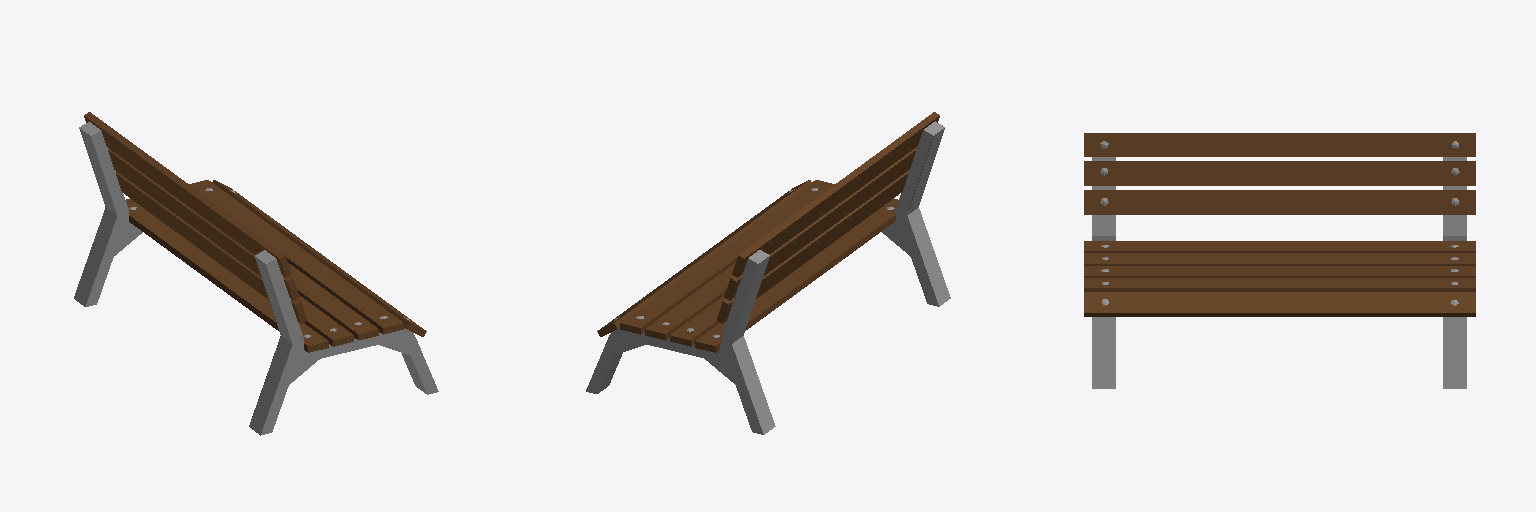
The picture shows the model from 3 angles: view 1: azimuth 30°, elevation 25°; view 2: azimuth 150°, elevation 25°; view 3: azimuth 270°, elevation 25°; orthographic projection.
Visible parts, largest first — view 1: Icosphere.007; view 2: Icosphere.007; view 3: Icosphere.007.
Part boxes in pixels (x1,y1,x2,y2): Icosphere.007: (74,112,438,435); Icosphere.007: (586,112,950,434); Icosphere.007: (1084,133,1475,388).
Size of the model in its own units: 2.92 by 2.79 by 5.56.
Materials: 1 (1 with a texture image).